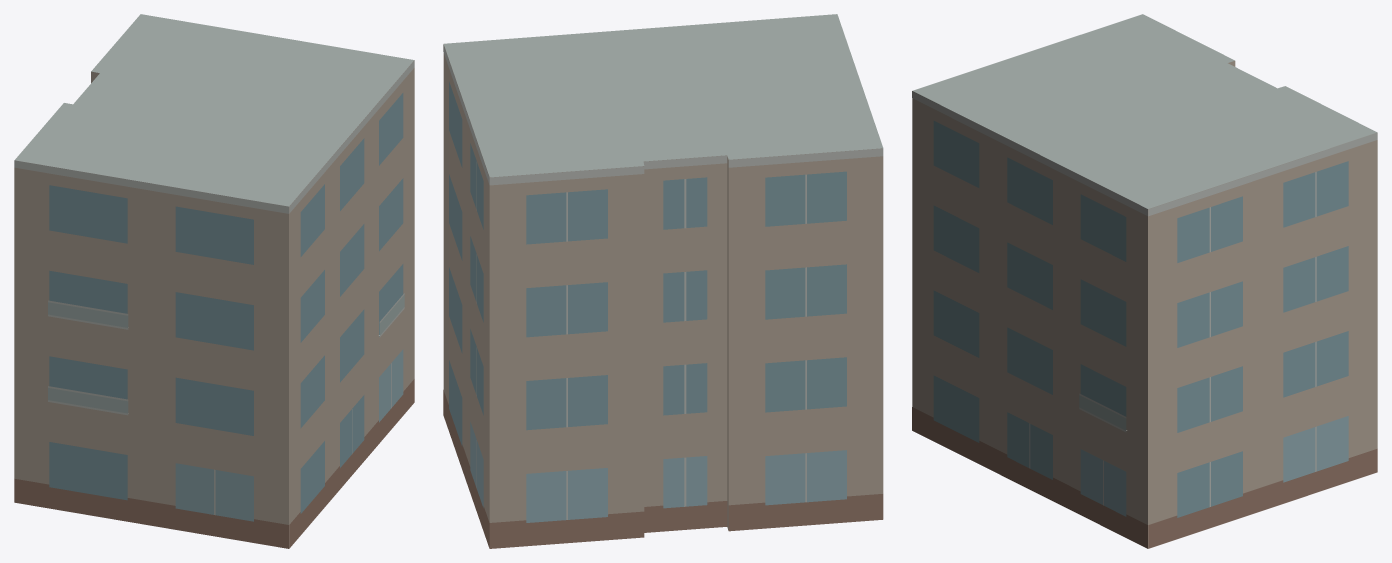
File: survey-upis-33016793.glb
The picture shows the model from 3 angles, left to right: view 1: azimuth 30°, elevation 25°; view 2: azimuth 150°, elevation 25°; view 3: azimuth 270°, elevation 25°; orthographic projection. The views are drawn at different scales.
Visible parts, largest first — view 1: survey-upis-33016793.tmp; view 2: survey-upis-33016793.tmp; view 3: survey-upis-33016793.tmp.
Boxes of the visible parts, x1,y1,x2,y2 form: survey-upis-33016793.tmp: (14, 14, 414, 548); survey-upis-33016793.tmp: (443, 14, 883, 548); survey-upis-33016793.tmp: (912, 14, 1377, 548).
Bounding box in the file's own units: 13.99 × 11.35 × 14.1.
